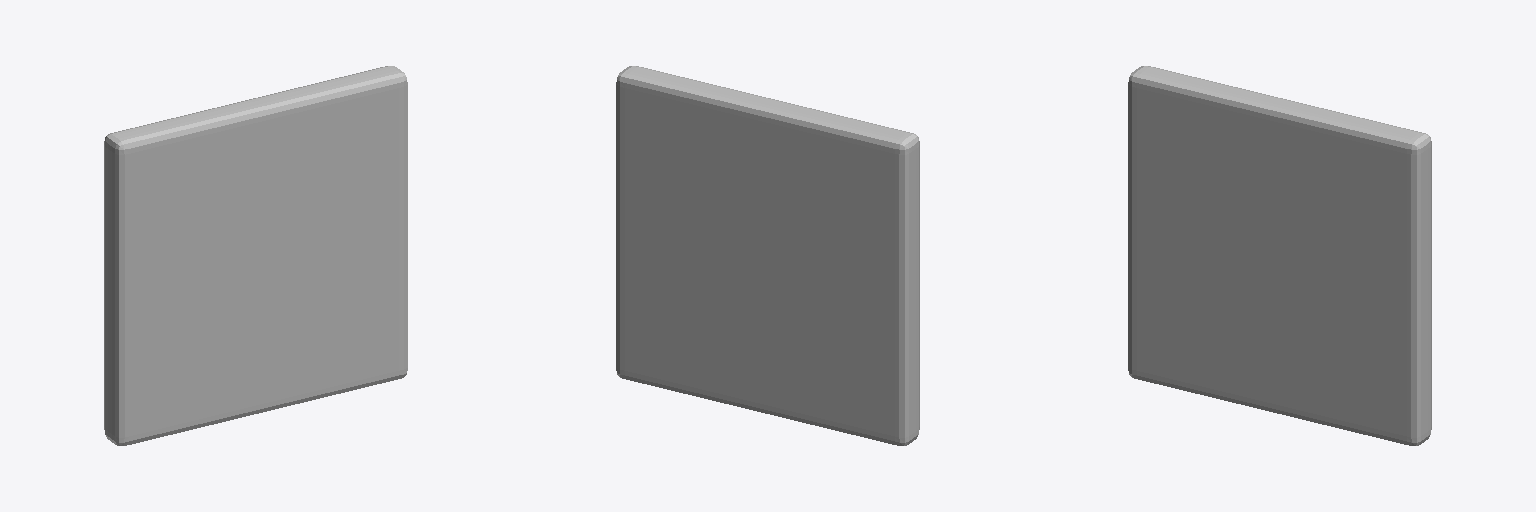
The model's file is Floor_square.obj.
3 views of the same model, side by side, from view 1: azimuth 30°, elevation 25°; view 2: azimuth 150°, elevation 25°; view 3: azimuth 330°, elevation 25° (orthographic).
Parts seen in each view (by area): view 1: Cube; view 2: Cube; view 3: Cube.
Part boxes in pixels (x1,y1,x2,y2): Cube: (104, 66, 407, 445); Cube: (616, 66, 919, 445); Cube: (1128, 66, 1431, 445).
Size of the model in its own units: 1 by 1 by 0.1.